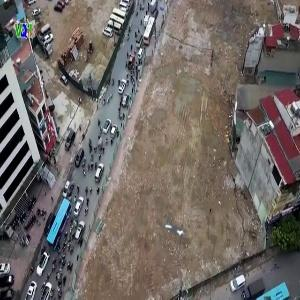drone: (142, 197, 207, 262)
